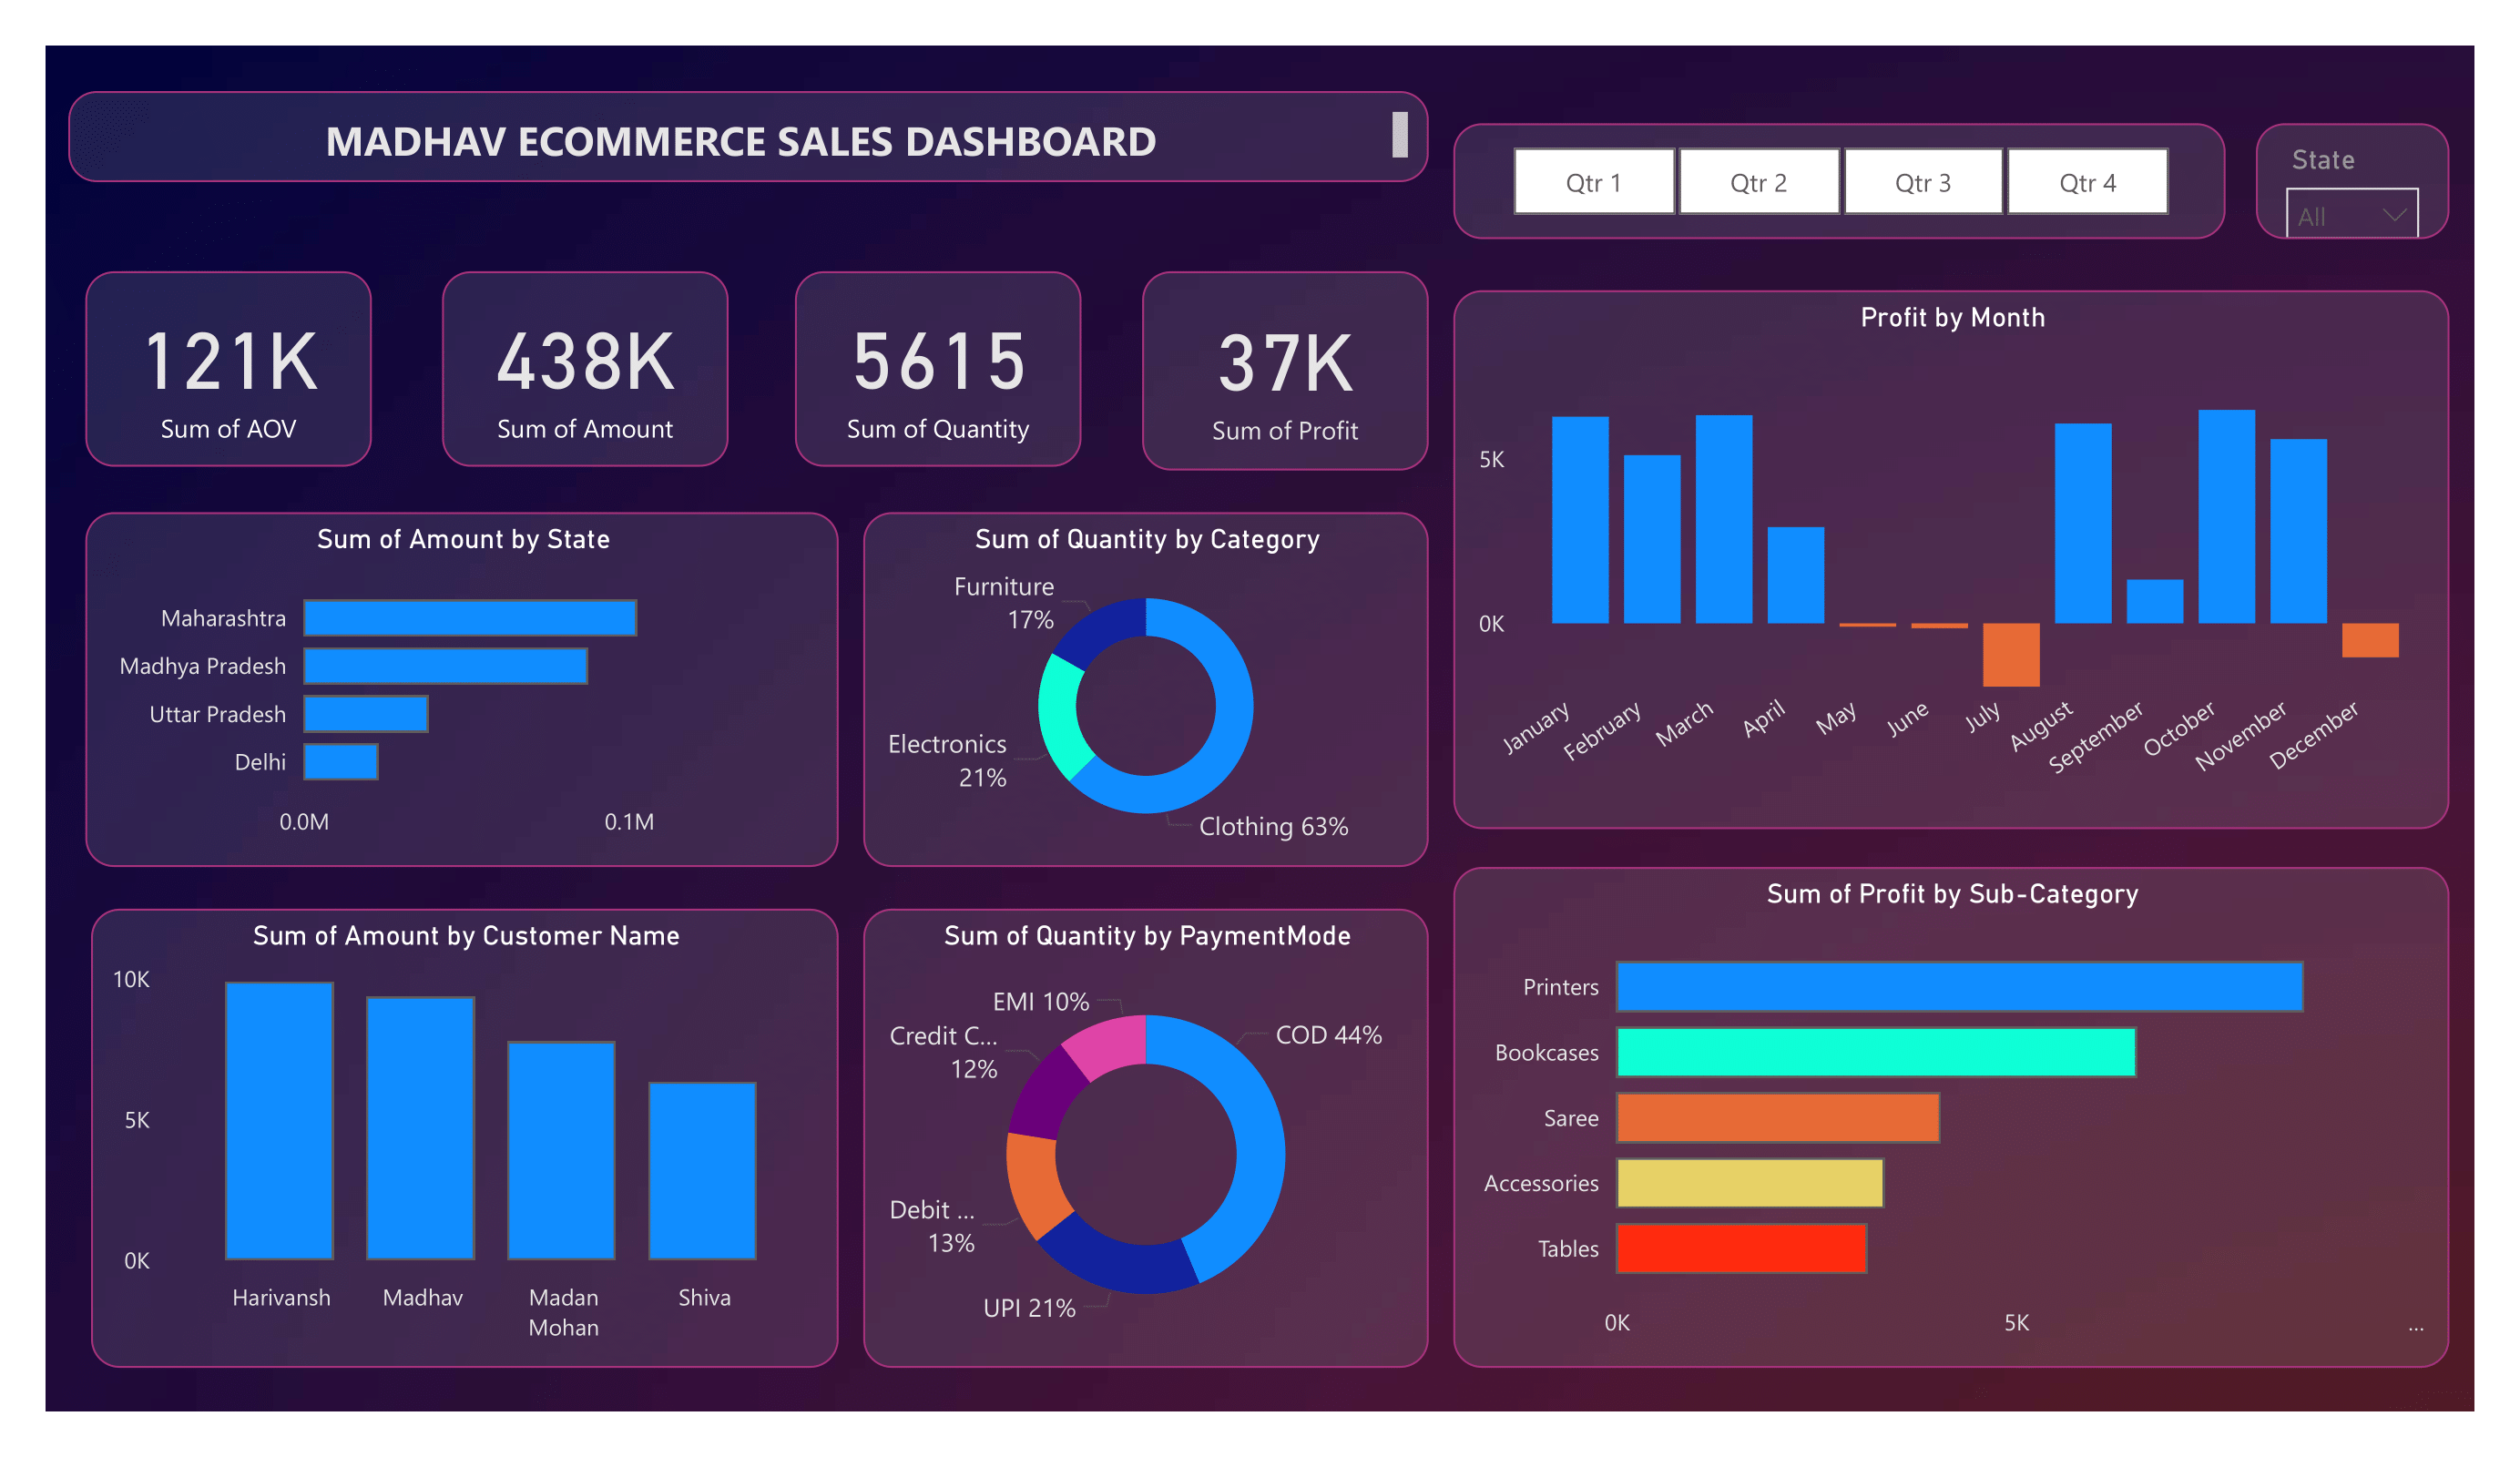

The dashboard page shown, as its layout file describes it:
{"tool":"powerbi","page":{"name":"Page 1","canvas":[1280,720],"ordinal":0},"visuals":[{"type":"textbox","box":[12.2,24.5,716.3,48],"z":0},{"type":"columnChart","title":"Profit by Month","fields":{"Category":["Orders.Custom.Variation.Date Hierarchy.Month"],"Y":["Details.Profit"]},"box":[742,129,525,284],"z":1000},{"type":"barChart","fields":{"Category":["Details.Sub-Category"],"Y":["Details.Profit"]},"box":[742,433,525,264],"z":2000},{"type":"donutChart","fields":{"Category":["Details.Category"],"Y":["Details.Quantity"]},"box":[431,246,298,187],"z":3000},{"type":"donutChart","fields":{"Y":["Details.Quantity"],"Category":["Details.PaymentMode"]},"box":[431,455,298,242],"z":4000},{"type":"card","fields":{"Values":["Details.Amount"]},"box":[209,119,151,103],"z":5000},{"type":"card","fields":{"Values":["Details.AOV"]},"box":[21,119,151,103],"z":6000},{"type":"card","fields":{"Values":["Details.Quantity"]},"box":[395,119,151,103],"z":7000},{"type":"card","fields":{"Values":["Details.Profit"]},"box":[578,119,151,105],"z":8000},{"type":"barChart","fields":{"Category":["Orders.State"],"Y":["Details.Amount"]},"box":[21,246,397,187],"z":9000},{"type":"columnChart","fields":{"Category":["Orders.Customer Name"],"Y":["Details.Amount"]},"box":[24,455,394,242],"z":10000},{"type":"slicer","fields":{"Values":["Orders.Custom.Variation.Date Hierarchy.Quarter"]},"box":[742,41,407,61],"z":11000},{"type":"slicer","fields":{"Values":["Orders.State"]},"box":[1165,41,102,61],"z":12000}]}

Visuals, with their boxes on the page's 1280x720 design canvas (x1, y1, x2, y2). These are canvas units, not pixel positions in the 2520x1457 screenshot, which may show the page scaled, cropped or inside an application window:
textbox: {"left": 12, "top": 24, "right": 728, "bottom": 72}
"Profit by Month" columnChart: {"left": 742, "top": 129, "right": 1267, "bottom": 413}
barChart - Details.Sub-Category x Details.Profit: {"left": 742, "top": 433, "right": 1267, "bottom": 697}
donutChart - Details.Category x Details.Quantity: {"left": 431, "top": 246, "right": 729, "bottom": 433}
donutChart - Details.Quantity x Details.PaymentMode: {"left": 431, "top": 455, "right": 729, "bottom": 697}
card - Details.Amount: {"left": 209, "top": 119, "right": 360, "bottom": 222}
card - Details.AOV: {"left": 21, "top": 119, "right": 172, "bottom": 222}
card - Details.Quantity: {"left": 395, "top": 119, "right": 546, "bottom": 222}
card - Details.Profit: {"left": 578, "top": 119, "right": 729, "bottom": 224}
barChart - Orders.State x Details.Amount: {"left": 21, "top": 246, "right": 418, "bottom": 433}
columnChart - Orders.Customer Name x Details.Amount: {"left": 24, "top": 455, "right": 418, "bottom": 697}
slicer - Orders.Custom.Variation.Date Hierarchy.Quarter: {"left": 742, "top": 41, "right": 1149, "bottom": 102}
slicer - Orders.State: {"left": 1165, "top": 41, "right": 1267, "bottom": 102}
